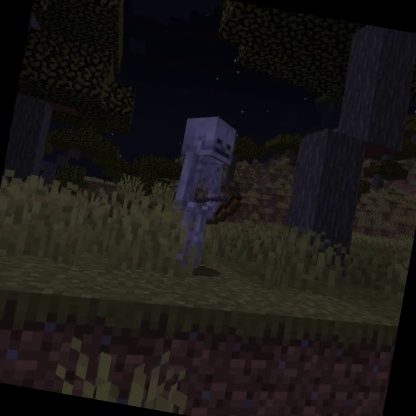skeleton: (156, 106, 259, 278)
